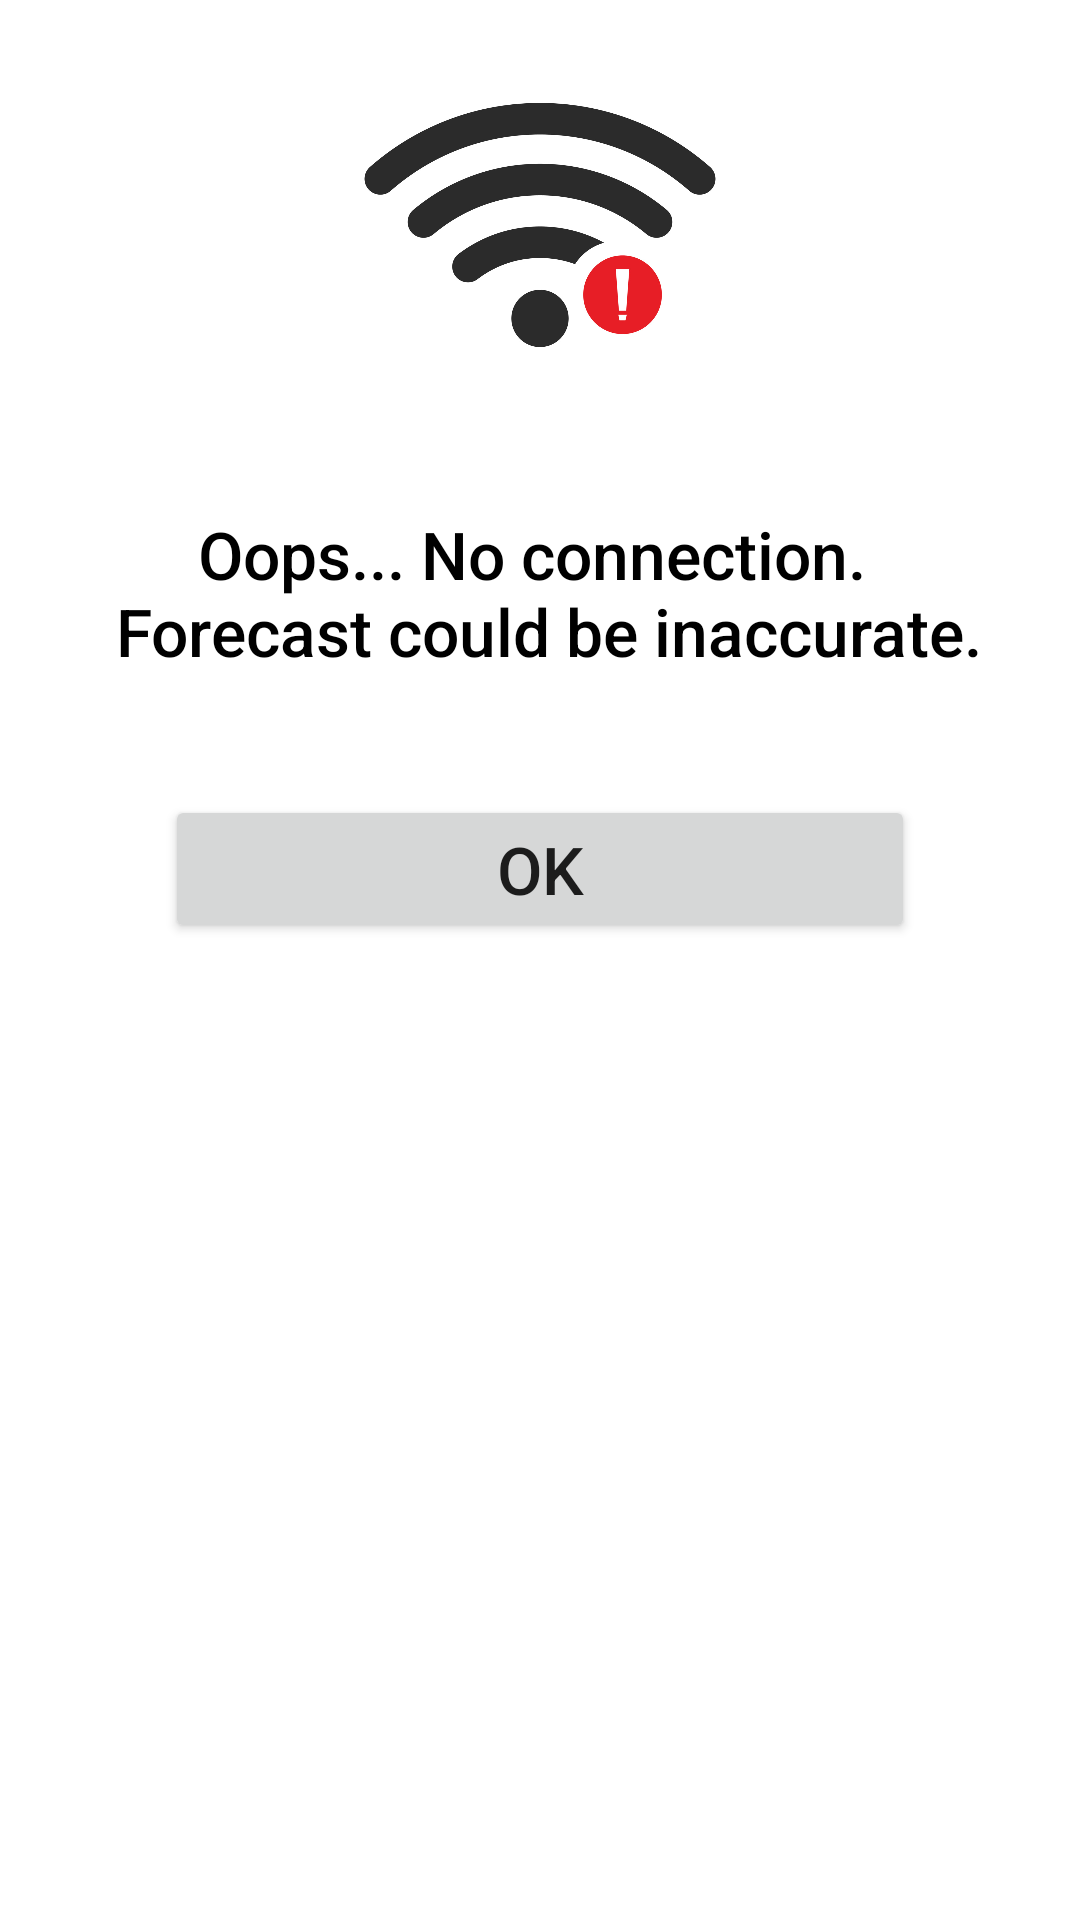

Icon click points for this 1080x1920 phone screenshot, format [x,y]:
no connection dialog: [540,225]
